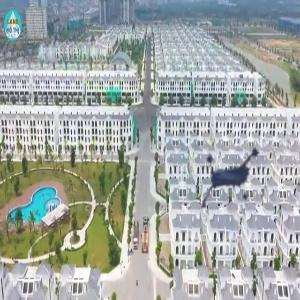drone: (190, 122, 280, 212)
